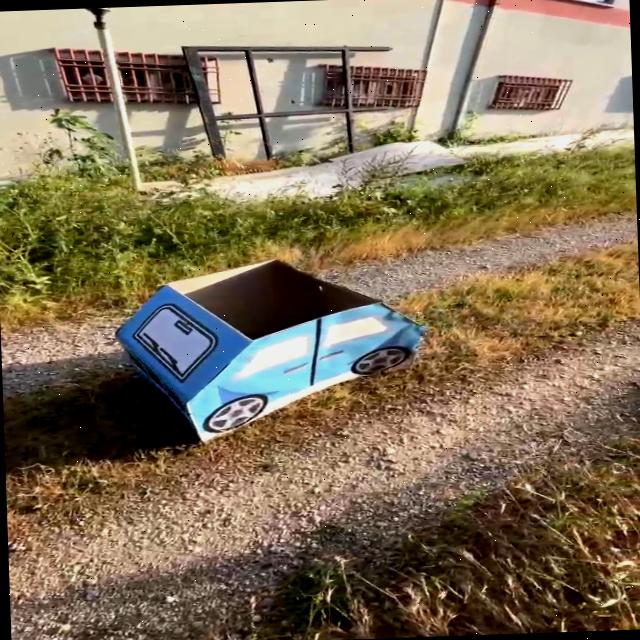blue_car: (68, 230, 470, 481)
